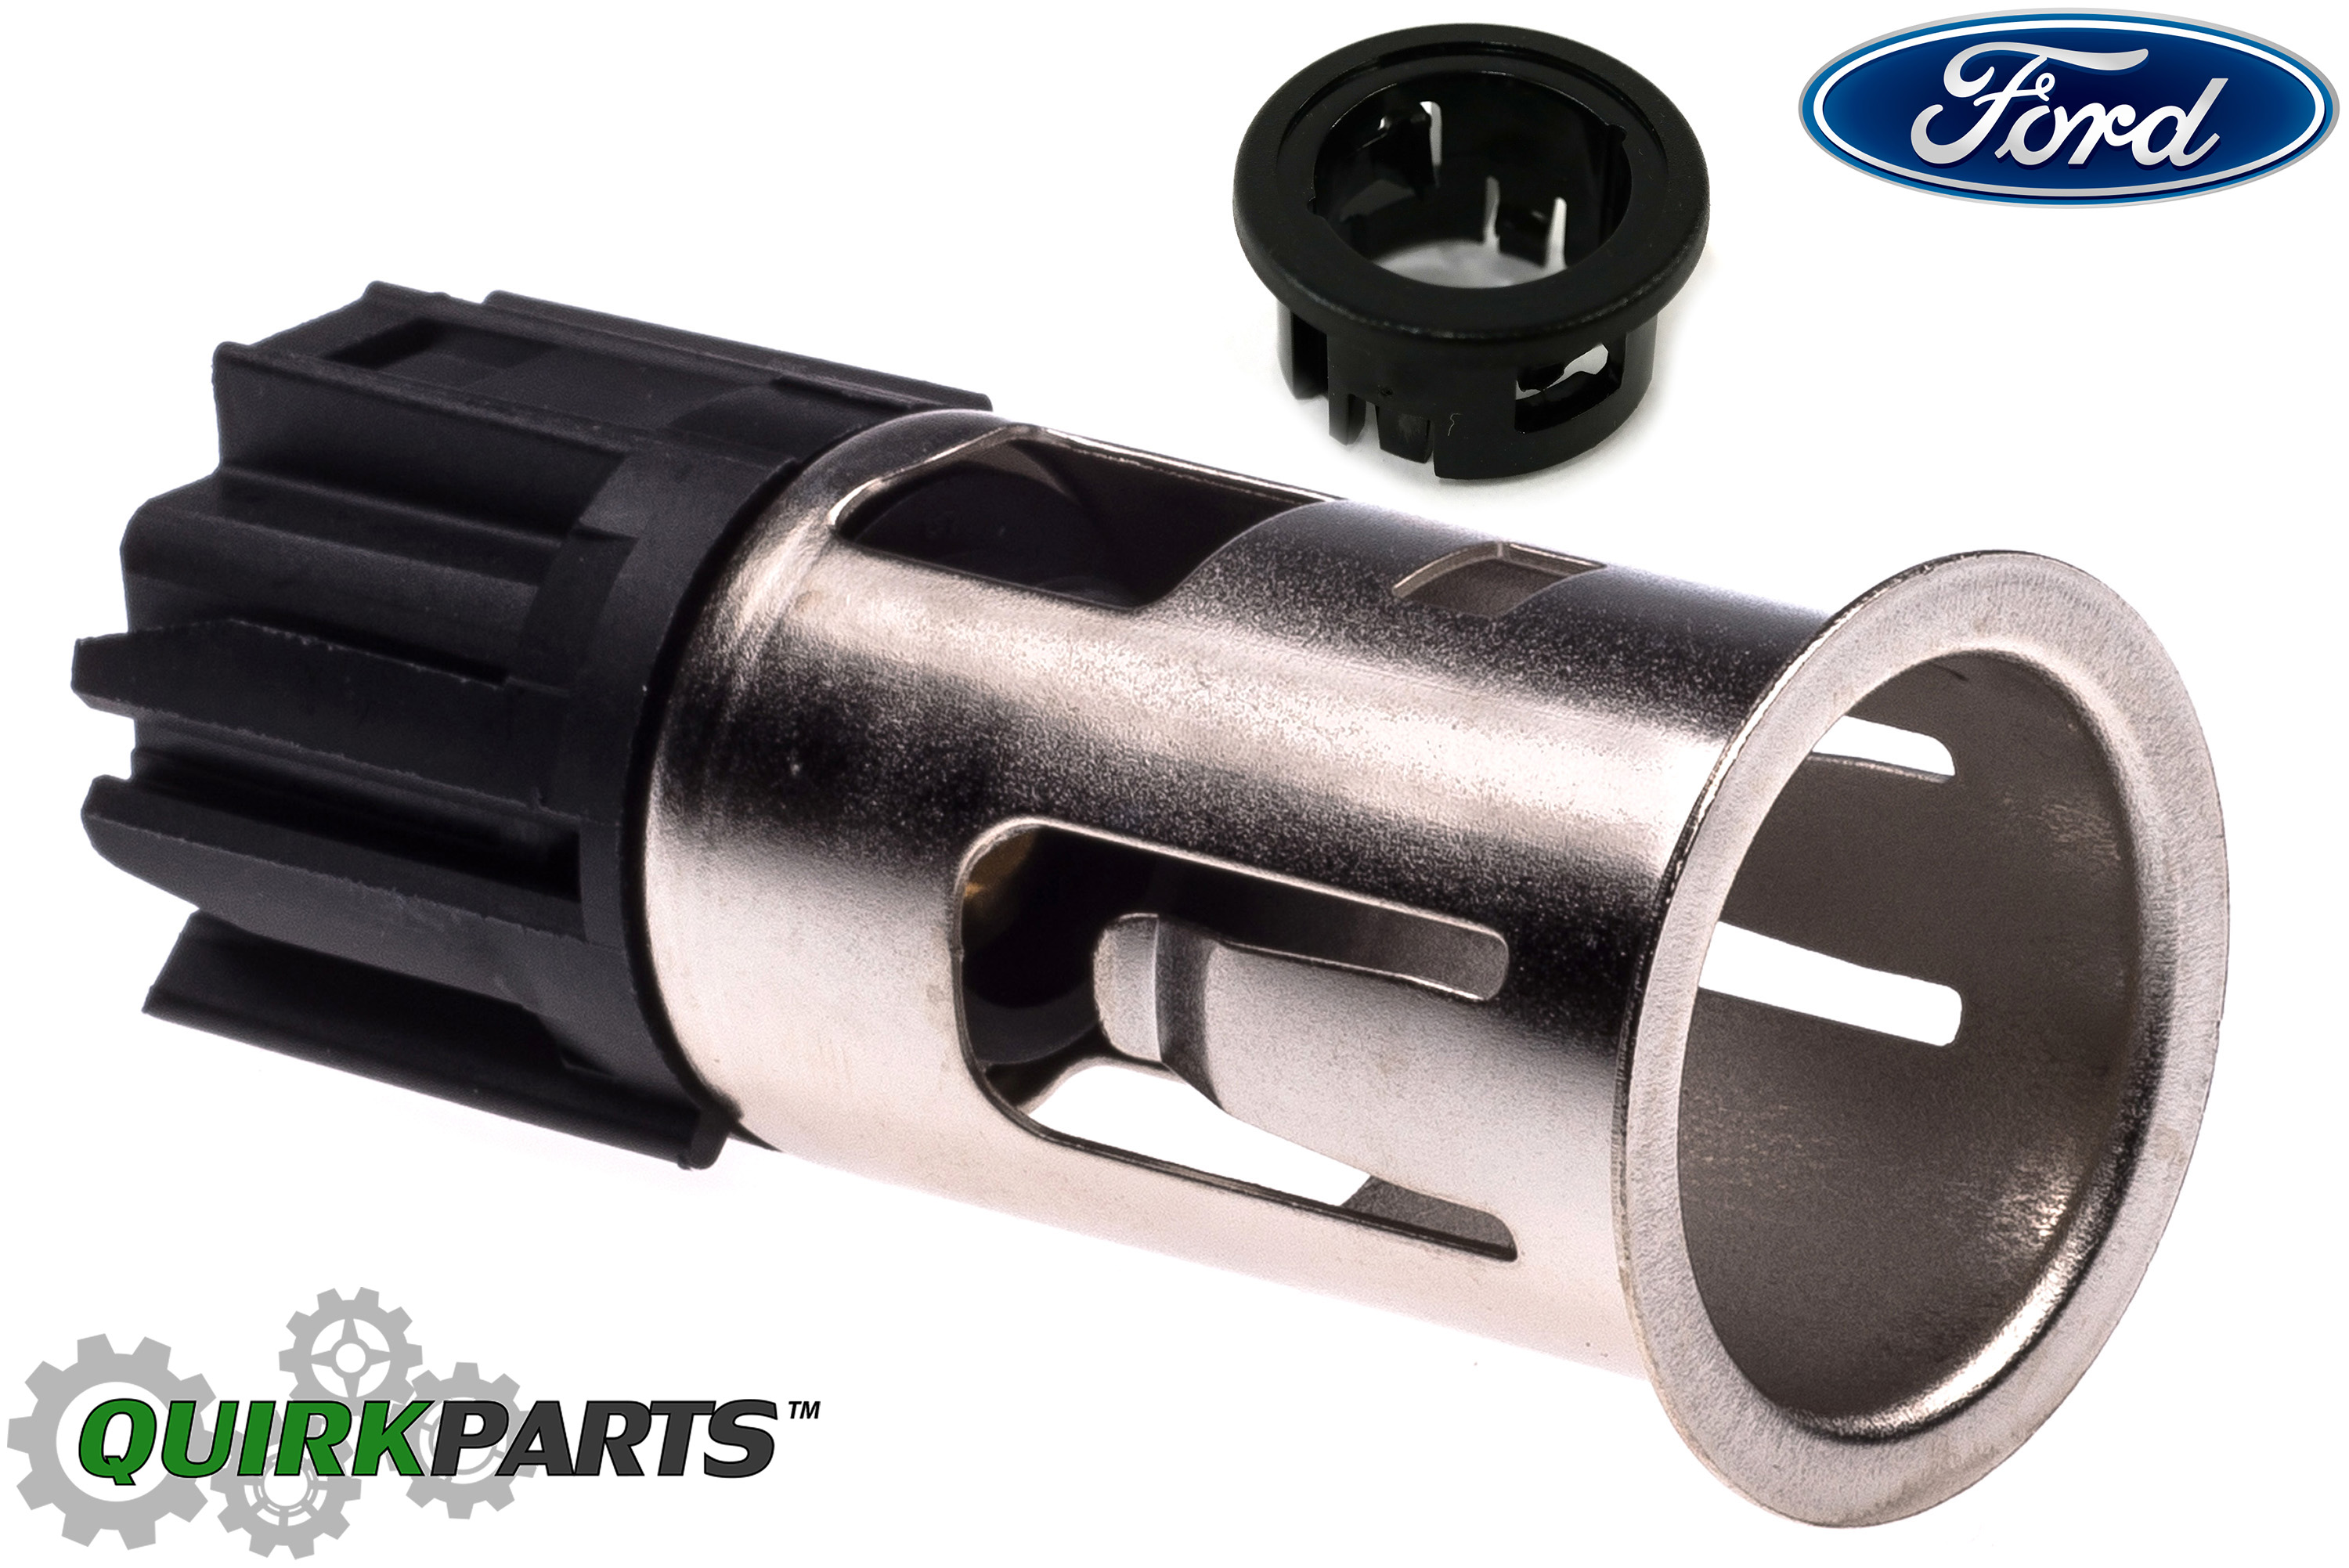Nonrec_Other: (53, 192, 2272, 1517)
